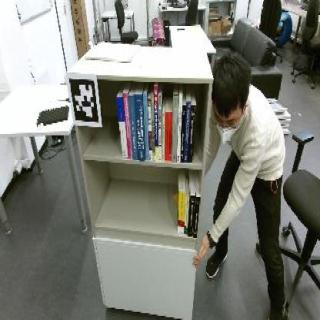book-spine: (134, 94, 145, 161), (116, 97, 128, 158), (123, 93, 133, 159), (128, 95, 138, 160), (171, 95, 179, 163), (183, 102, 191, 163), (176, 95, 183, 163), (188, 105, 196, 163), (143, 93, 149, 161), (154, 85, 159, 161), (177, 192, 186, 233), (180, 105, 186, 163), (187, 195, 195, 237), (164, 112, 170, 161), (193, 197, 200, 238), (151, 94, 155, 161), (158, 95, 162, 161), (148, 99, 152, 160), (162, 110, 165, 162), (169, 112, 172, 161), (184, 197, 187, 234), (186, 198, 189, 234)
